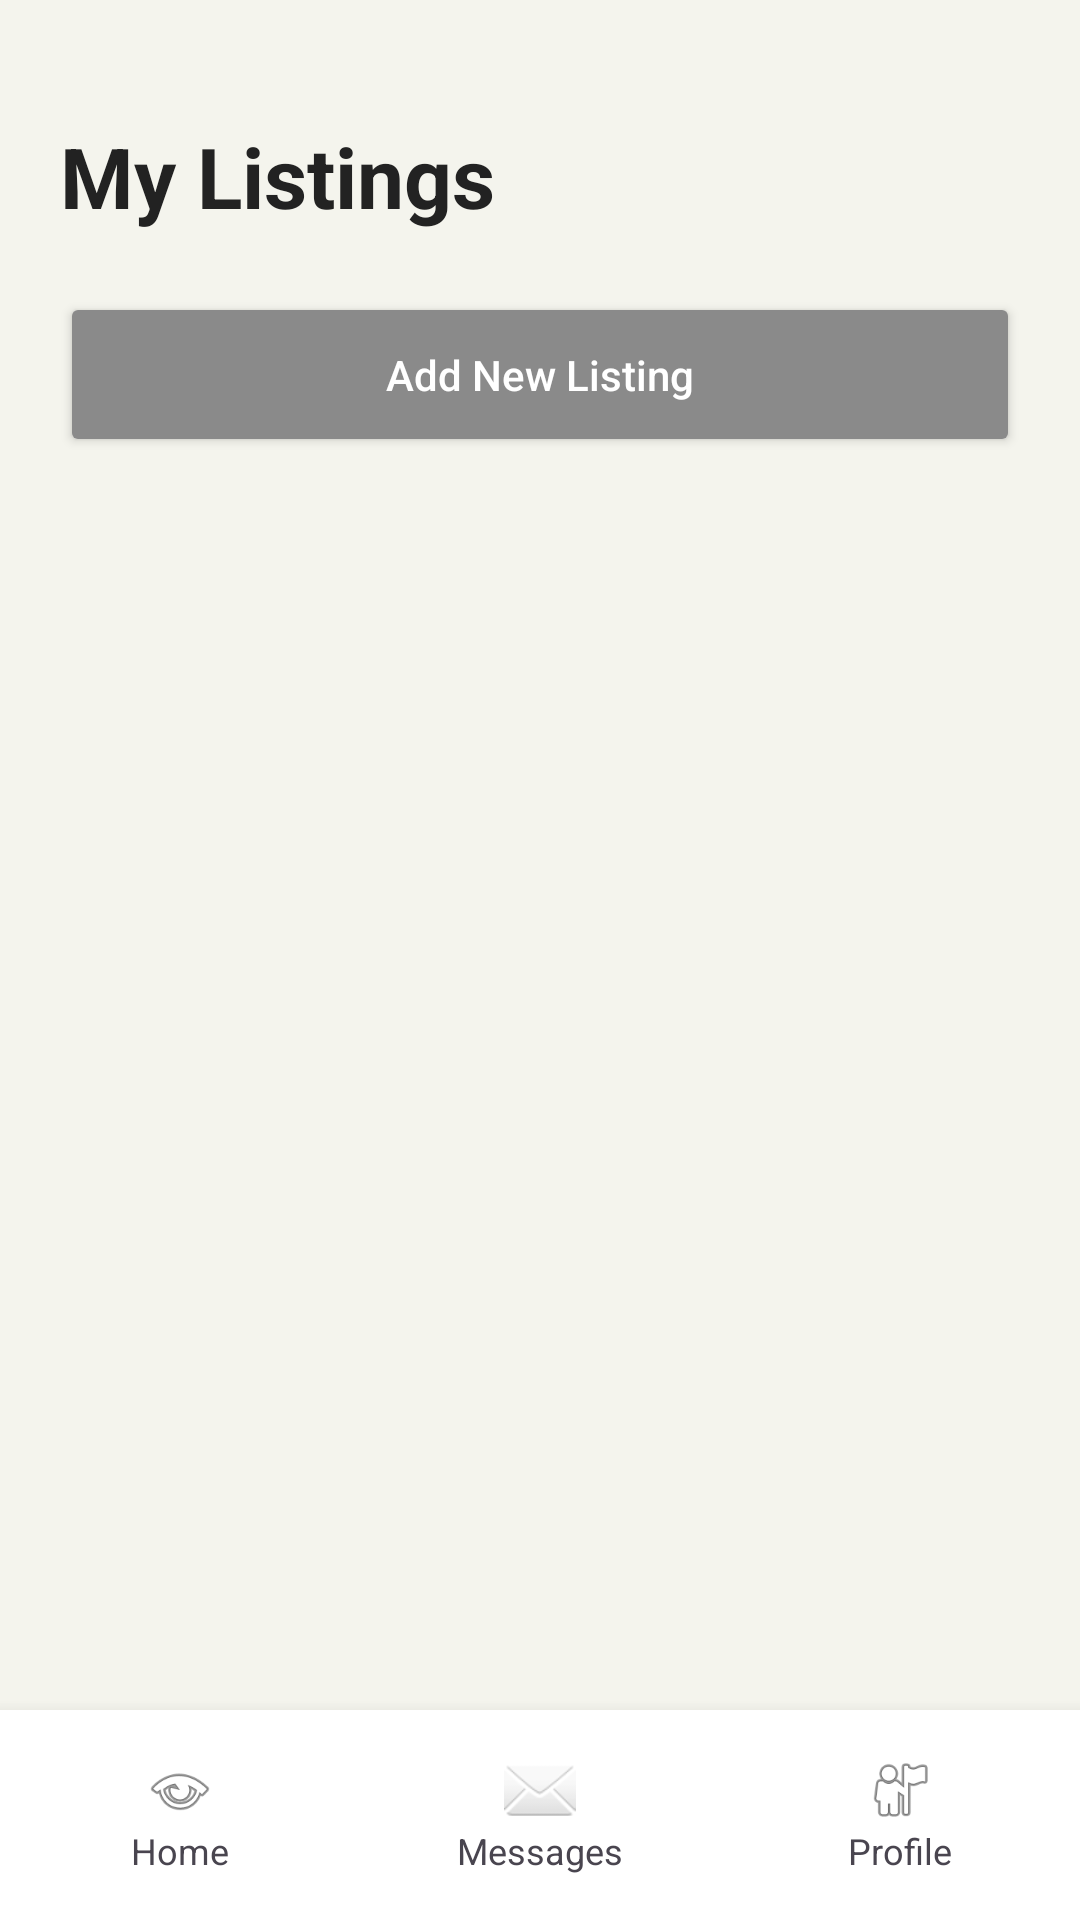

Where icons sit on this 1080x1920 app screen, as (x1, y1, x2, y2):
email: (504, 1767, 576, 1816)
myplaces: (874, 1763, 928, 1817)
view: (151, 1773, 209, 1810)
